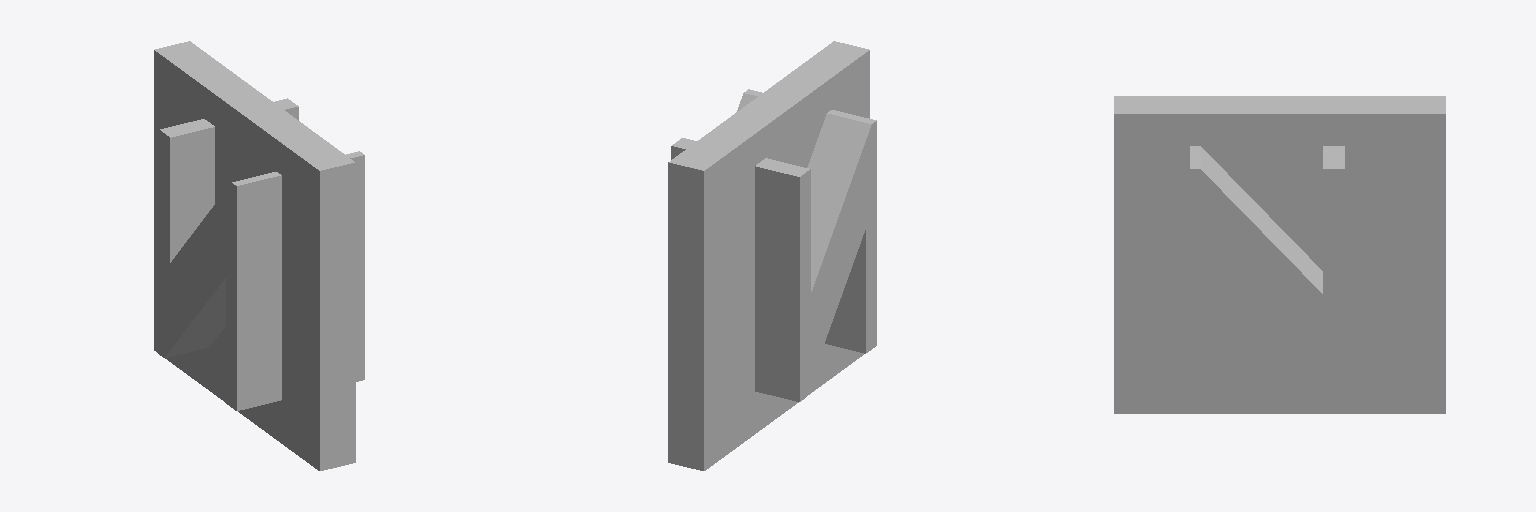
The model's file is letter_N.obj.
The picture shows the model from 3 angles: view 1: azimuth 30°, elevation 25°; view 2: azimuth 150°, elevation 25°; view 3: azimuth 270°, elevation 25°; orthographic projection.
Parts seen in each view (by area): view 1: window, Text; view 2: window, Text; view 3: window, Text.
Part boxes in pixels (x1,y1,x2,y2): window: (154, 41, 355, 470); Text: (159, 98, 364, 410); window: (668, 41, 869, 470); Text: (671, 89, 876, 401); window: (1114, 96, 1445, 413); Text: (1190, 146, 1344, 393).
Bounding box in the file's own units: 0.894 × 2 × 2.